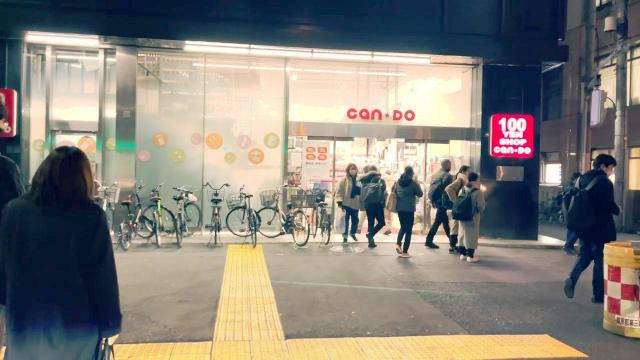berdiri: (446, 162, 486, 264)
berjalan: (8, 144, 144, 360), (562, 148, 626, 304), (394, 162, 424, 264), (358, 163, 387, 256)
